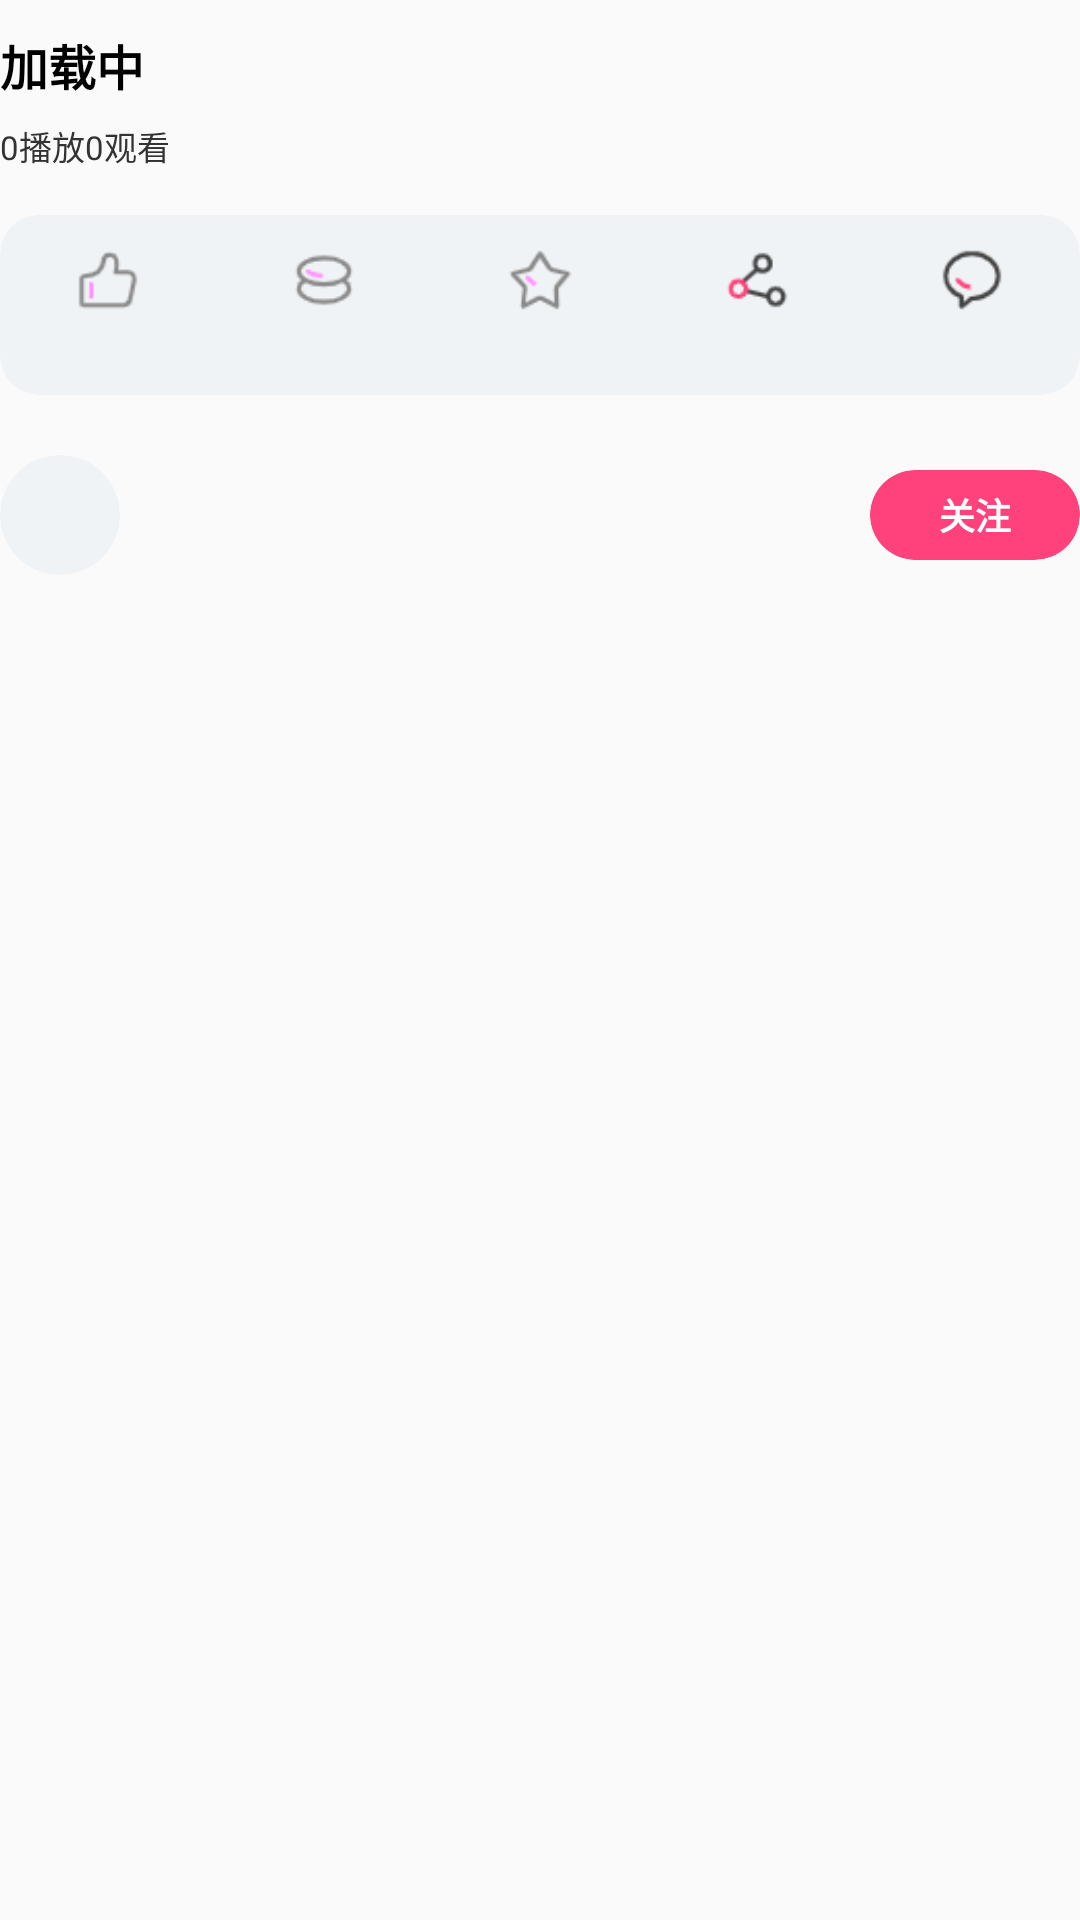

Point at icon controls on the screen. Image size 1080x1920, points as [x,y].
coin nocheck: [324,280]
comment: [971,279]
good nocheck: [108,280]
share: [757,280]
star nocheck: [540,280]
